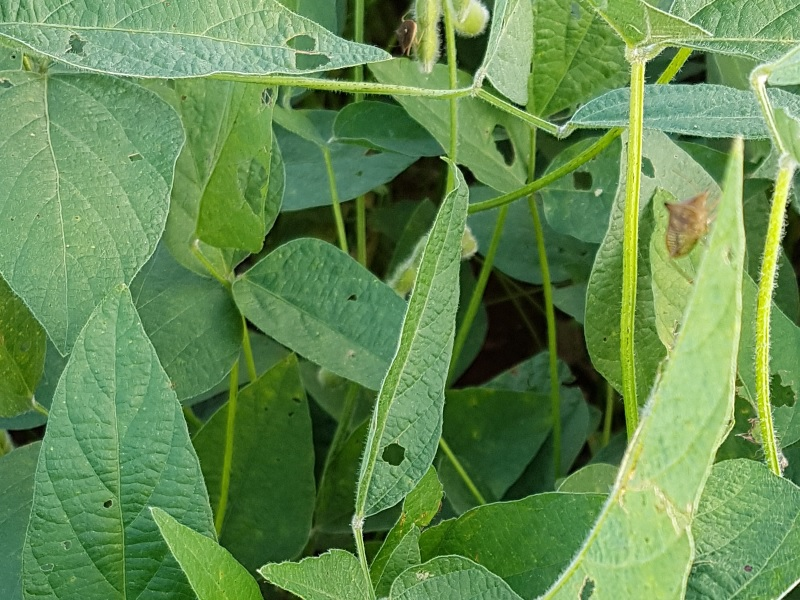Euschistus_heros_adulto: (647, 182, 727, 276), (379, 2, 436, 69)
